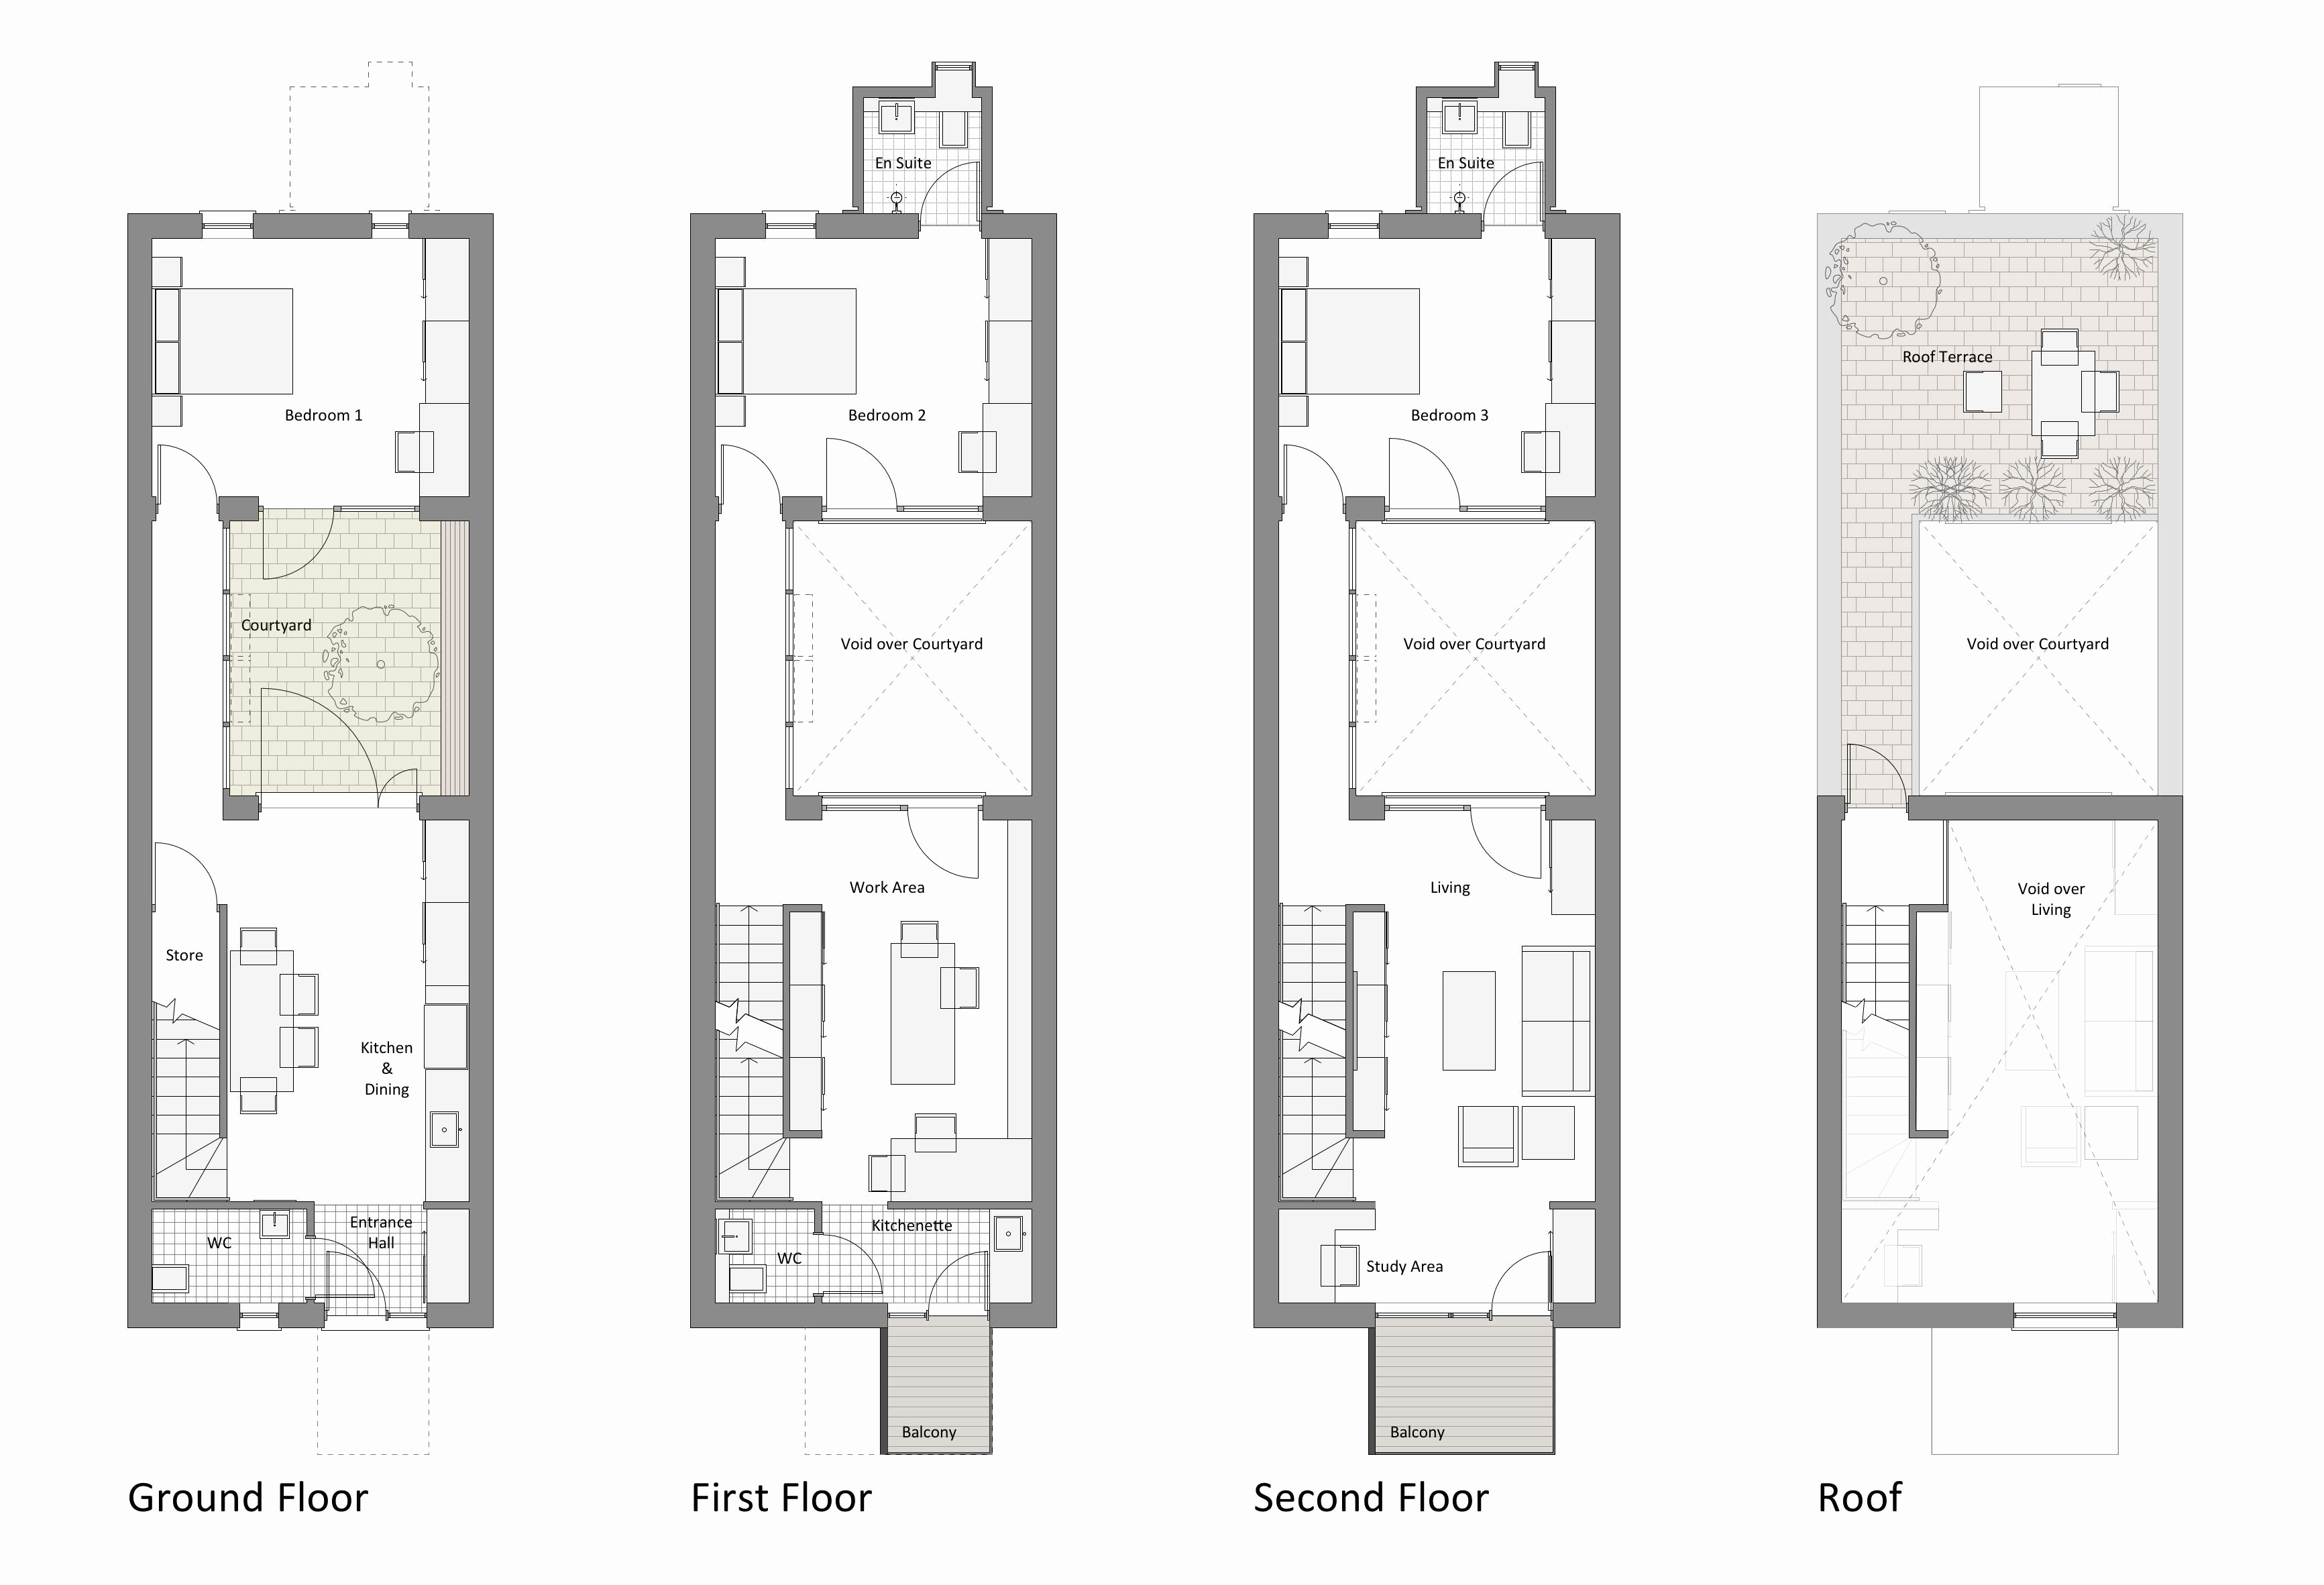door: (821, 435, 901, 509), (1466, 809, 1545, 884), (902, 808, 982, 880), (1386, 436, 1460, 507), (155, 435, 219, 509), (152, 841, 219, 908), (719, 440, 782, 511), (1282, 440, 1344, 509)
